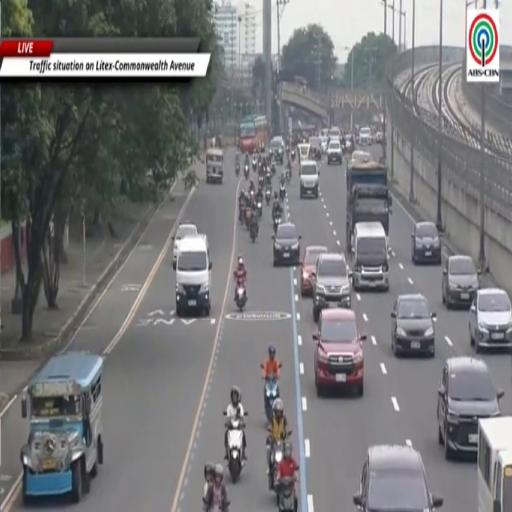car: (438, 357, 504, 459), (354, 445, 443, 511), (313, 309, 366, 396), (391, 294, 435, 357), (469, 288, 511, 353), (313, 253, 351, 322), (442, 255, 480, 309), (300, 246, 327, 296), (412, 221, 441, 264), (273, 222, 301, 266), (173, 221, 197, 269), (268, 137, 284, 165), (327, 140, 342, 165), (349, 151, 371, 165), (309, 137, 321, 161), (358, 127, 372, 145), (328, 126, 341, 143), (321, 136, 327, 153), (376, 131, 383, 143)
jeepney: (21, 351, 103, 504), (206, 149, 223, 183), (298, 143, 311, 162)
motorcycle: (268, 440, 283, 490), (268, 441, 282, 490), (277, 477, 297, 511), (236, 284, 247, 312), (250, 222, 258, 243), (273, 215, 281, 234), (245, 206, 251, 229), (239, 203, 245, 225), (256, 200, 262, 218), (279, 184, 285, 201), (265, 188, 271, 205), (258, 174, 264, 188), (286, 168, 291, 183), (244, 165, 249, 180), (252, 158, 257, 171), (271, 162, 276, 174), (291, 149, 295, 161), (236, 163, 239, 175), (261, 364, 264, 369), (245, 411, 247, 415)
truck: (346, 160, 392, 252), (478, 416, 511, 511), (239, 116, 269, 153)
